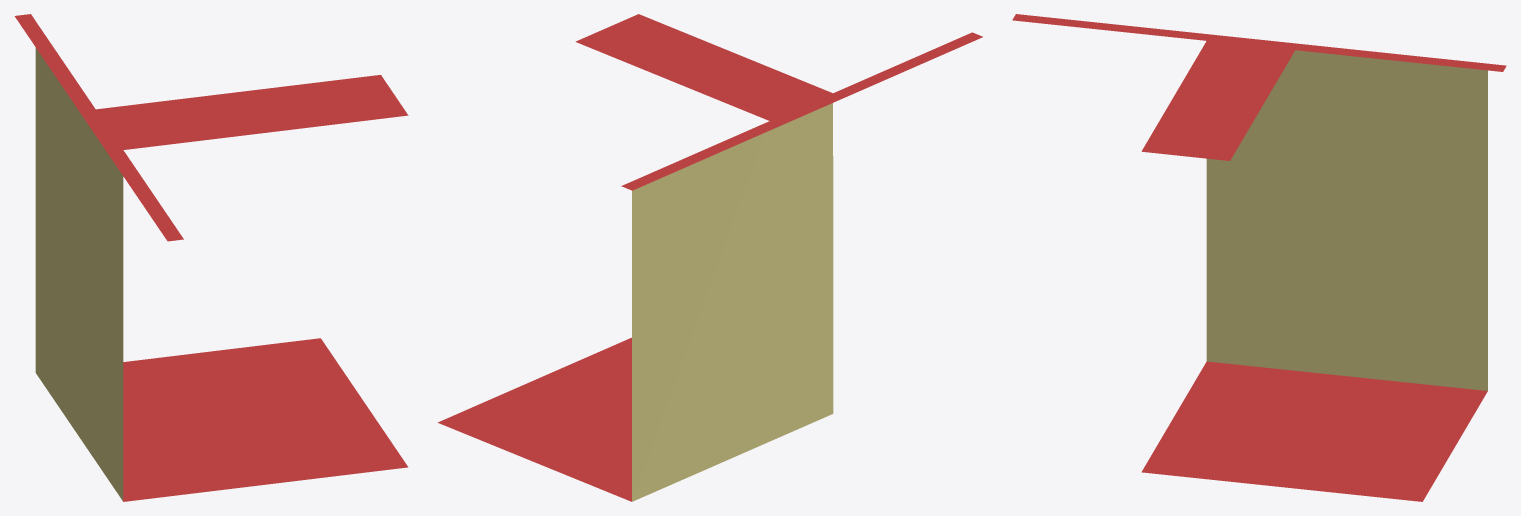
3 renders of one model, left to right at view 1: azimuth 30°, elevation 25°; view 2: azimuth 150°, elevation 25°; view 3: azimuth 270°, elevation 25°, orthographic. The views are drawn at different scales.
Bounding box in the file's own units: 6.35 × 7.93 × 5.67.
